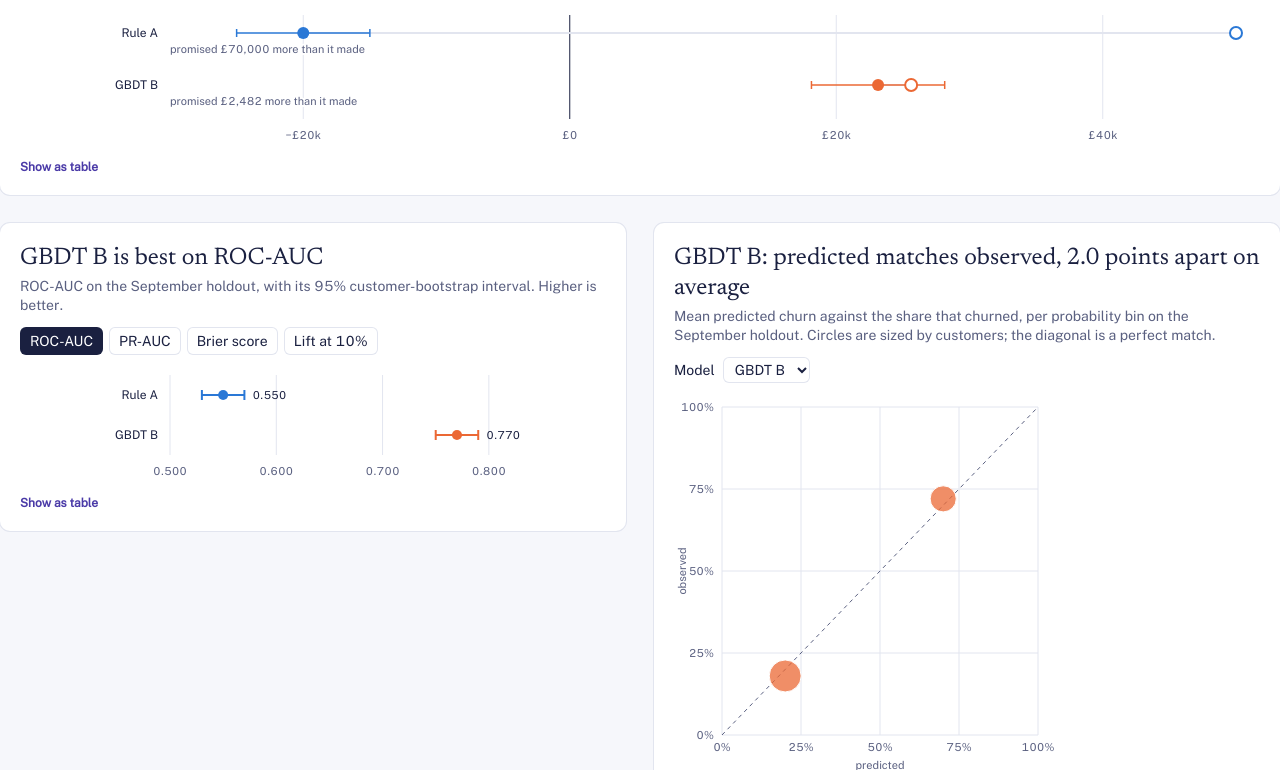
Scenario: reliability starts on the served model and can switch
(page scrolled)
Step 1. Select "Rule A" in the dropdown labelled "Model" → (766, 370), box x1=723 y1=357 x2=810 y2=383
(page scrolled)
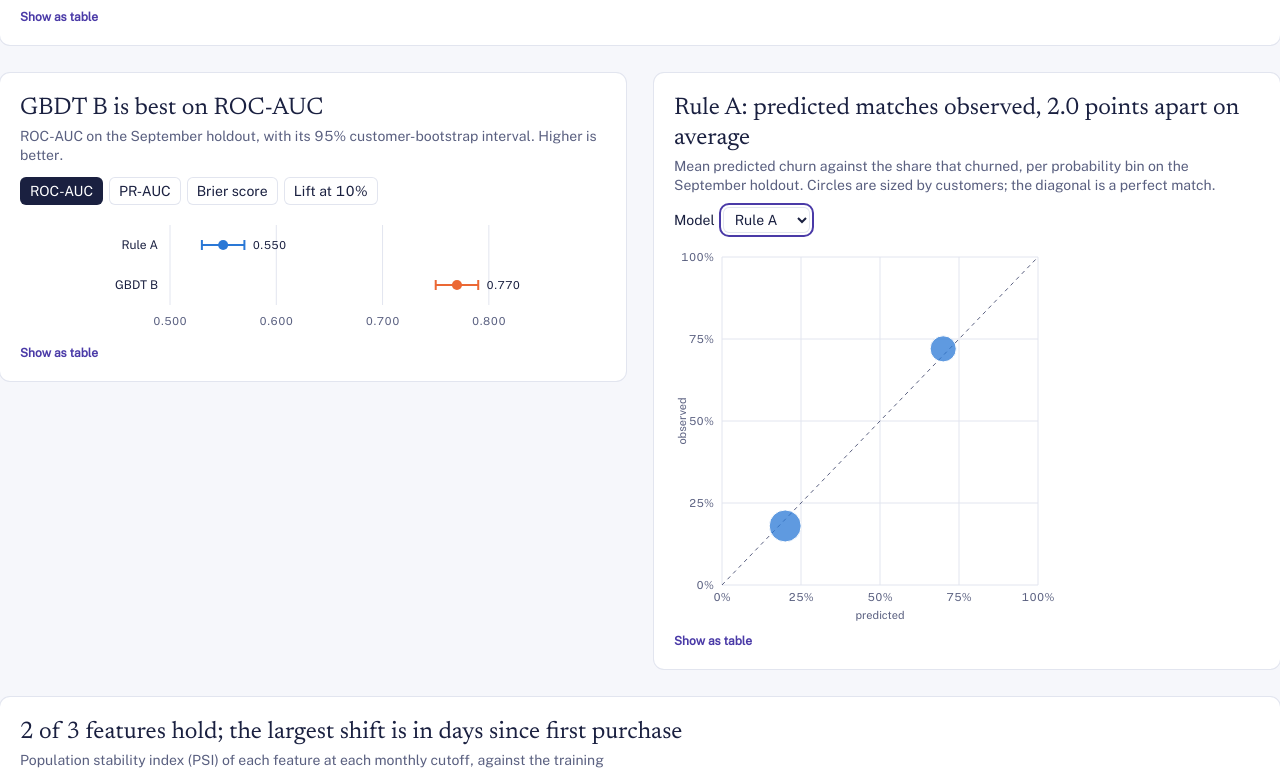
expect the element "Rule A: predicted matches observed, 2.0 points apart on average" is shown: met, box x1=654 y1=73 x2=1279 y2=669
